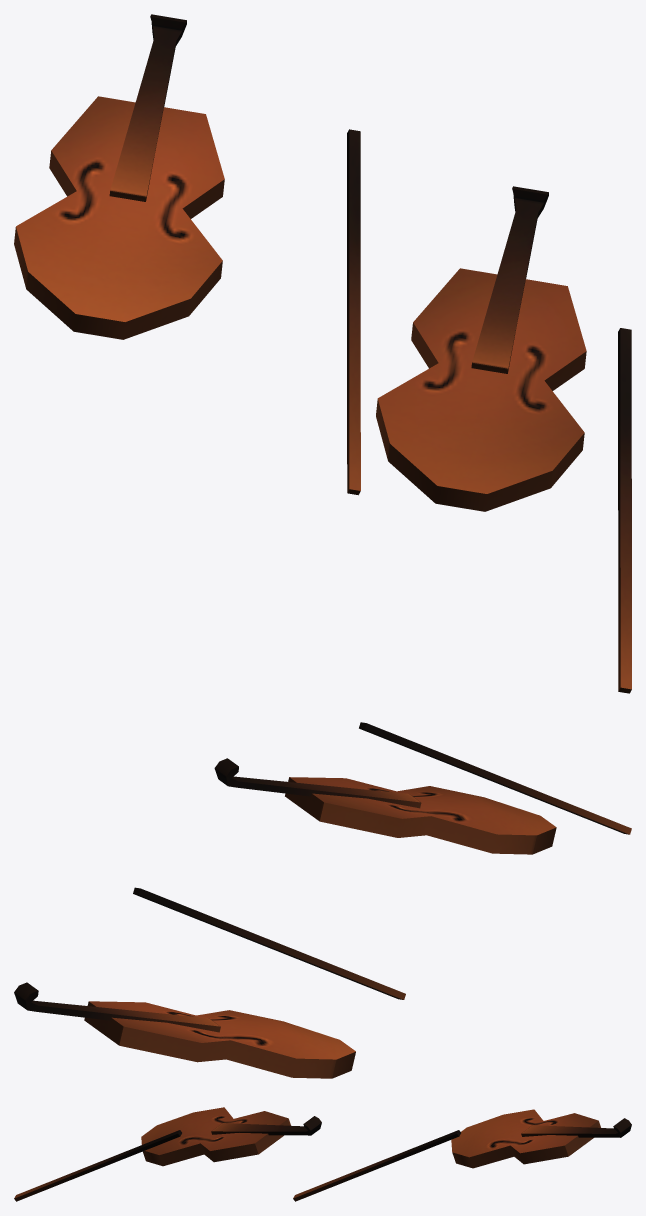
Rendered from Tx_prop_violin_32.fbx.
The picture shows the model from 3 angles, top to bottom: view 1: azimuth 30°, elevation 25°; view 2: azimuth 150°, elevation 25°; view 3: azimuth 270°, elevation 25°; orthographic projection. The views are drawn at different scales.
Visible parts, largest first — view 1: Tx_prop_violin_12; view 2: Tx_prop_violin_12; view 3: Tx_prop_violin_12.
Part boxes in pixels (x1,y1,x2,y2): Tx_prop_violin_12: (14, 14, 631, 693); Tx_prop_violin_12: (14, 722, 631, 1078); Tx_prop_violin_12: (14, 1107, 631, 1201).
Size of the model in its own units: 2.47 by 1.77 by 7.7.
Materials: 1 (1 with a texture image).
